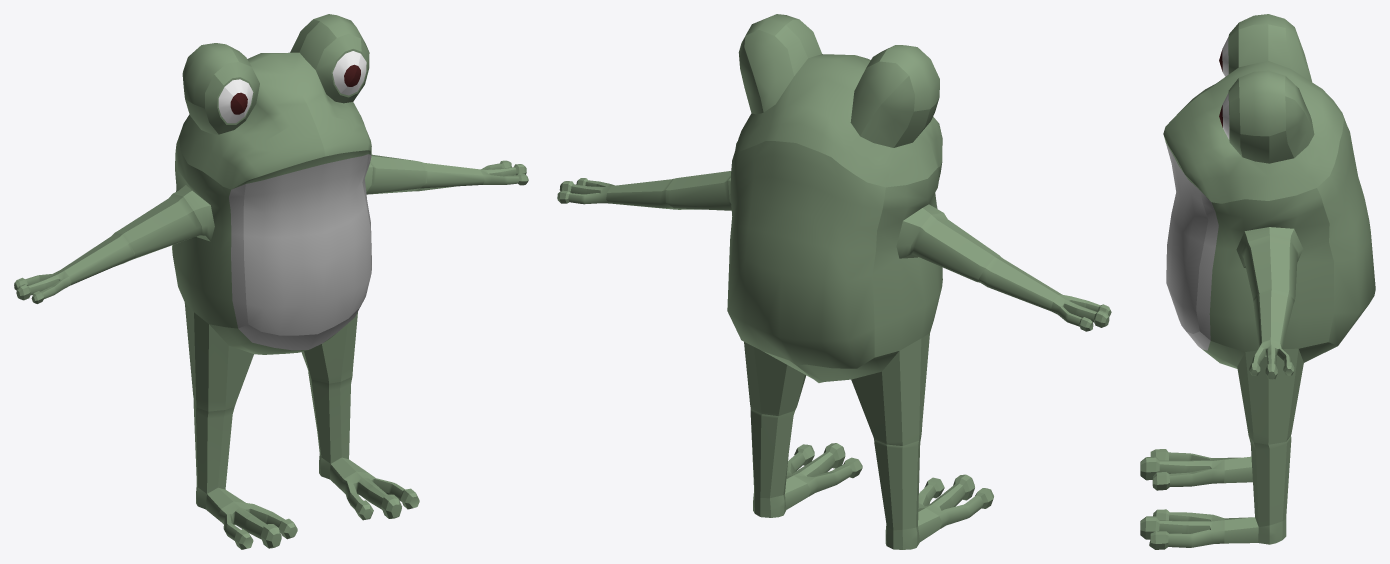
The model's file is frogver2.fbx.
3 views of the same model, side by side, from view 1: azimuth 30°, elevation 25°; view 2: azimuth 150°, elevation 25°; view 3: azimuth 270°, elevation 25° (orthographic). The views are drawn at different scales.
Parts seen in each view (by area): view 1: polySurface2; view 2: polySurface2; view 3: polySurface2.
Part boxes in pixels (<box>): polySurface2: <box>14,14,528,549</box>; polySurface2: <box>557,14,1111,549</box>; polySurface2: <box>1140,14,1375,549</box>.
Bounding box in the file's own units: 4.49 × 3.88 × 1.78.
